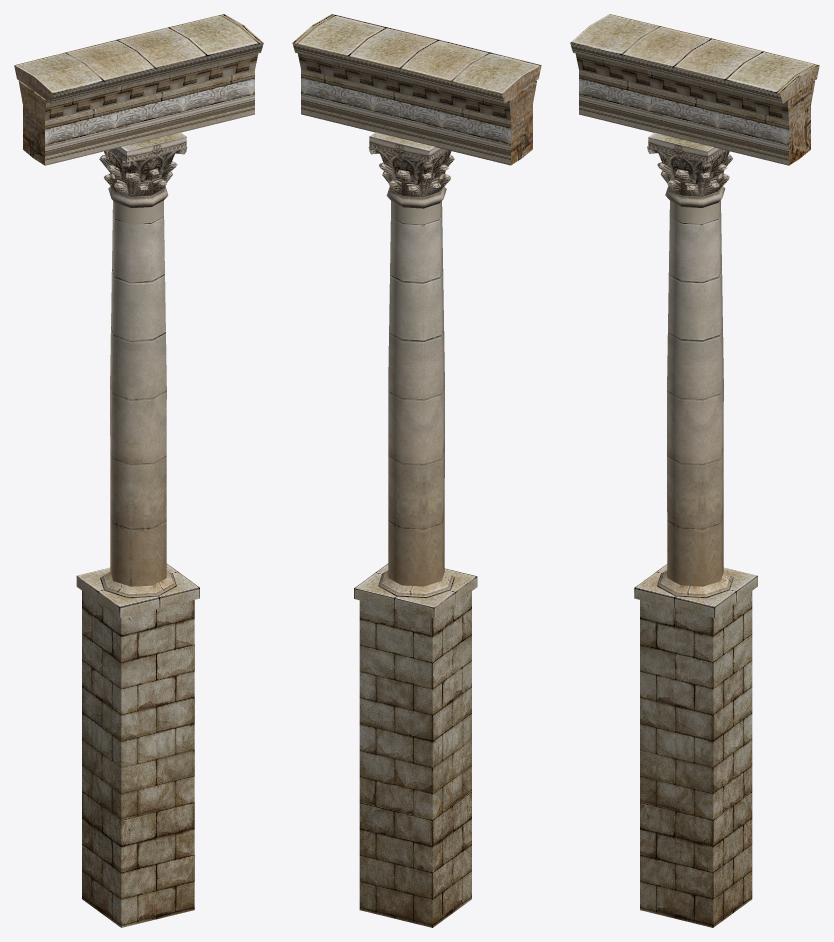
Rendered from sele_colonnade_0.glb.
The picture shows the model from 3 angles, left to right: view 1: azimuth 30°, elevation 25°; view 2: azimuth 150°, elevation 25°; view 3: azimuth 330°, elevation 25°; orthographic projection.
Visible parts, largest first — view 1: m_structural_sele_colonnade_mesh; view 2: m_structural_sele_colonnade_mesh; view 3: m_structural_sele_colonnade_mesh.
Boxes of the visible parts, bbox=[...] form: m_structural_sele_colonnade_mesh: bbox=[14, 14, 263, 927]; m_structural_sele_colonnade_mesh: bbox=[292, 14, 541, 927]; m_structural_sele_colonnade_mesh: bbox=[570, 14, 819, 927].
Bounding box in the file's own units: 4.53 × 17.37 × 1.59.
Materials: 1 (1 with a texture image).
